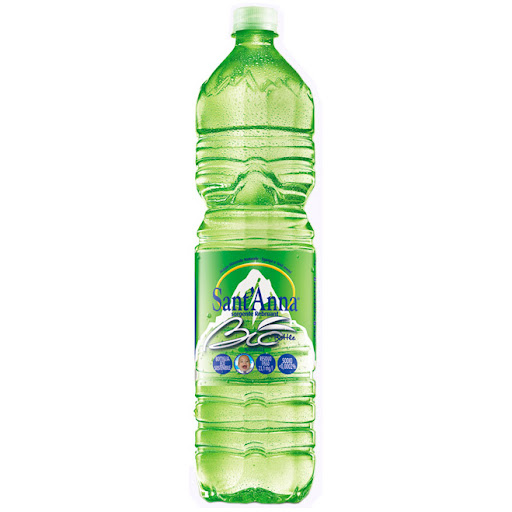PlasticBottle: (183, 10, 325, 506)
